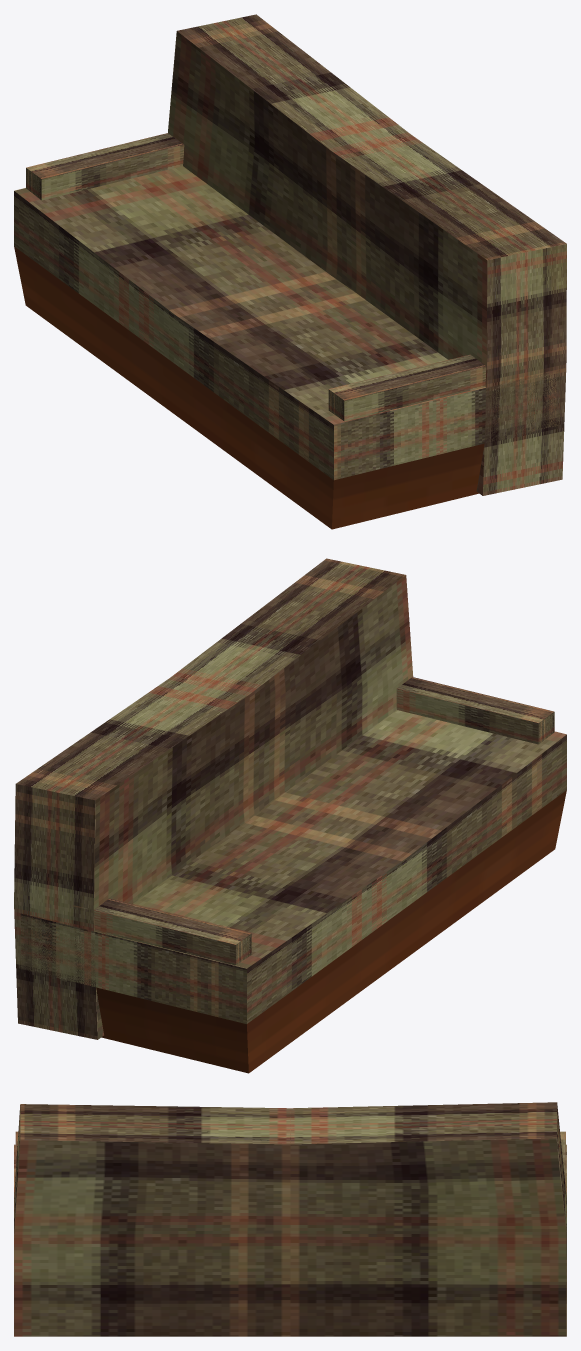
File: sofa.glb
The picture shows the model from 3 angles, top to bottom: view 1: azimuth 30°, elevation 25°; view 2: azimuth 150°, elevation 25°; view 3: azimuth 270°, elevation 25°; orthographic projection. The views are drawn at different scales.
Visible parts, largest first — view 1: Cube.004; view 2: Cube.004; view 3: Cube.004.
Part boxes in pixels (x1,y1,x2,y2): Cube.004: (14,14,566,529); Cube.004: (14,558,566,1073); Cube.004: (14,1102,566,1336).
Bounding box in the file's own units: 0.7986 × 0.7628 × 1.87.
Materials: 1 (1 with a texture image).
